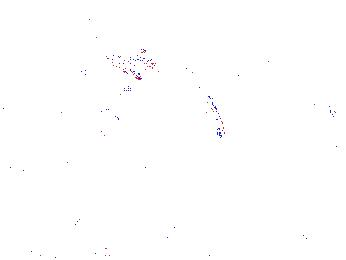glassfish: (175, 65, 227, 145)
redtail glassfish: (103, 50, 166, 77), (64, 17, 111, 41)
siberian prawn: (39, 216, 119, 260)
